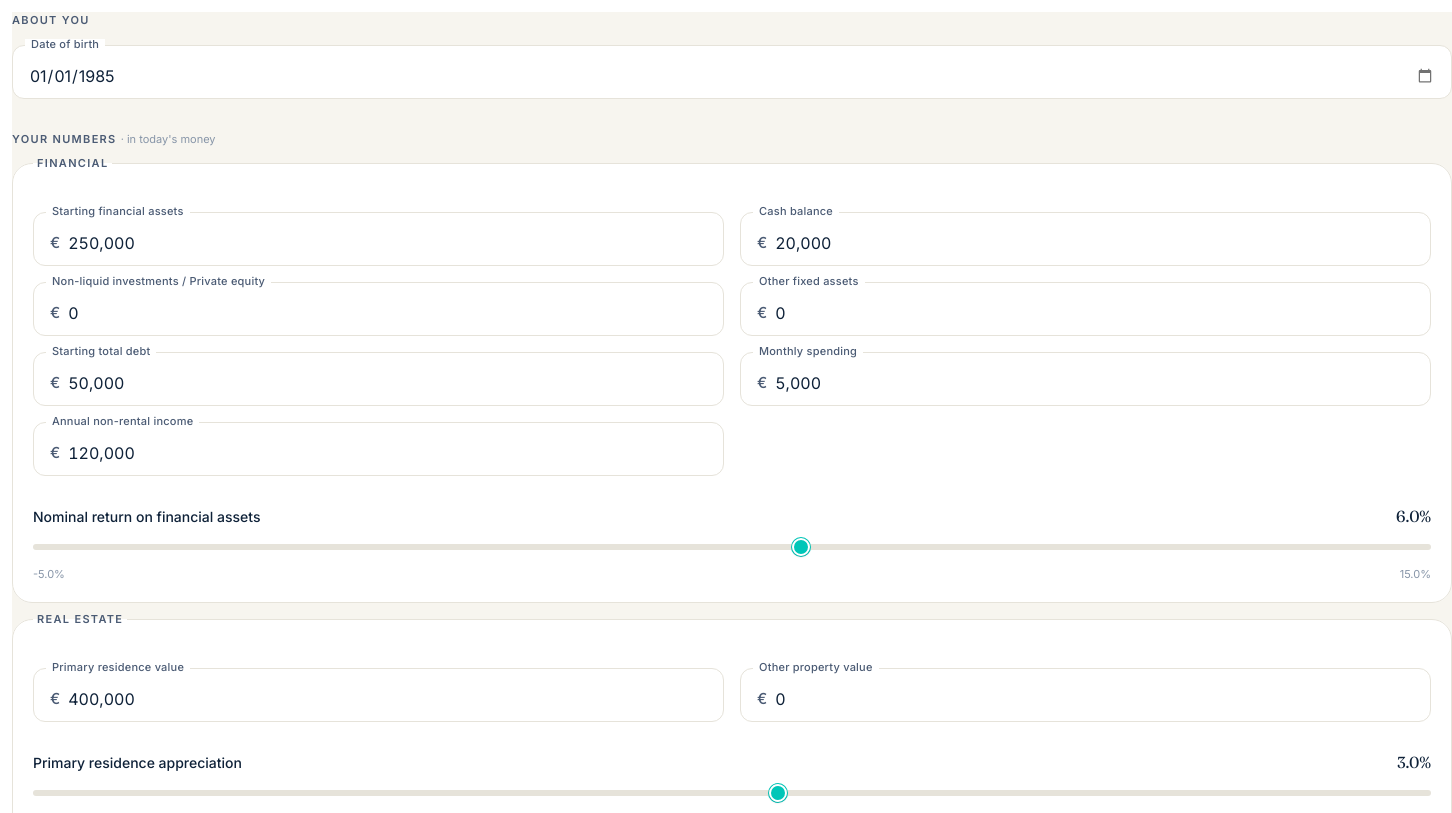
PlannerForm layout › updates the Cash balance field when the user types
Replace the text in the field named "Cash balance" with "75000". click: (1095, 242)
box: [775, 230, 1414, 254]
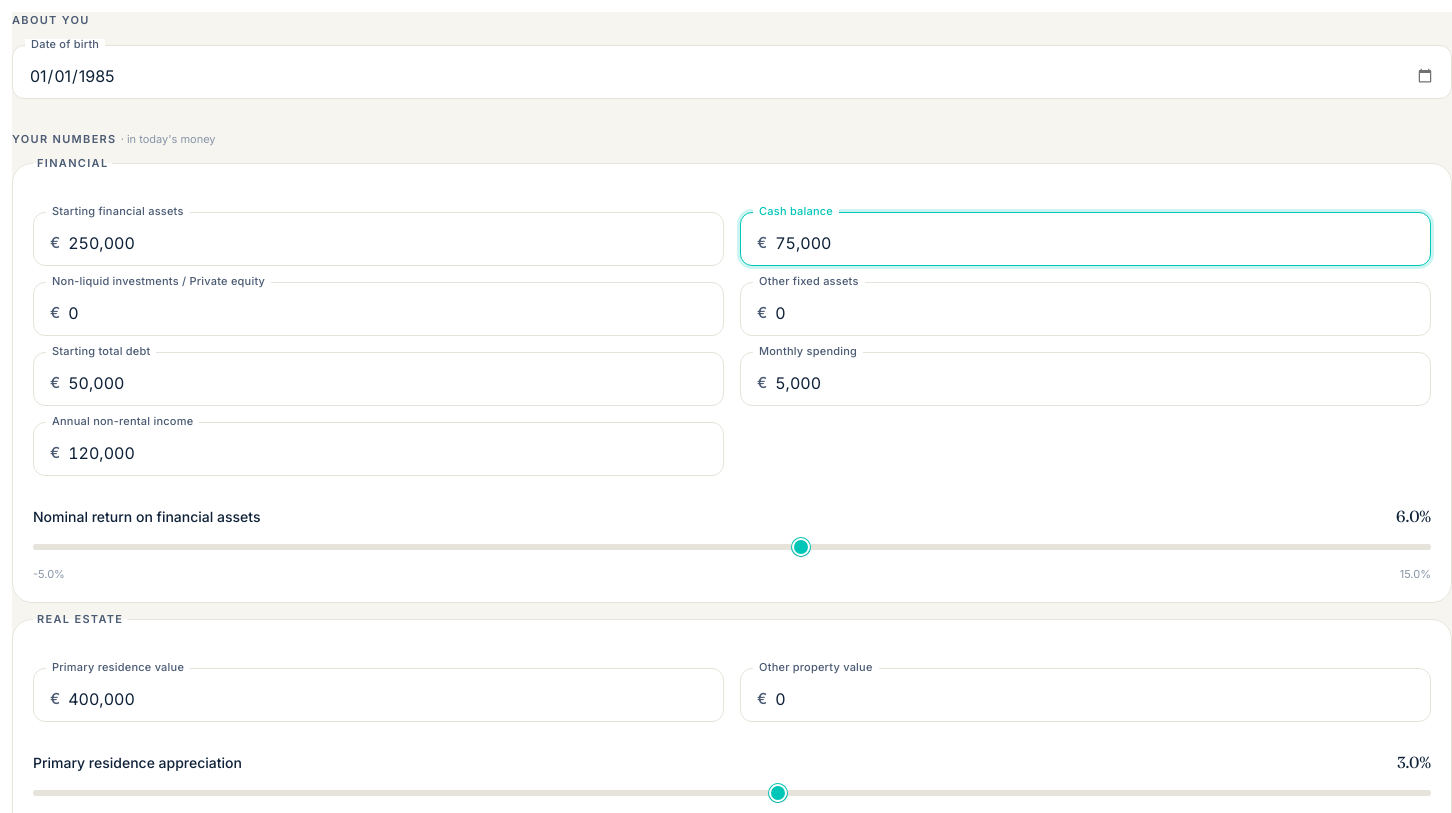
Now the field named "Cash balance" holds "75,000", box [775, 230, 1414, 254]
